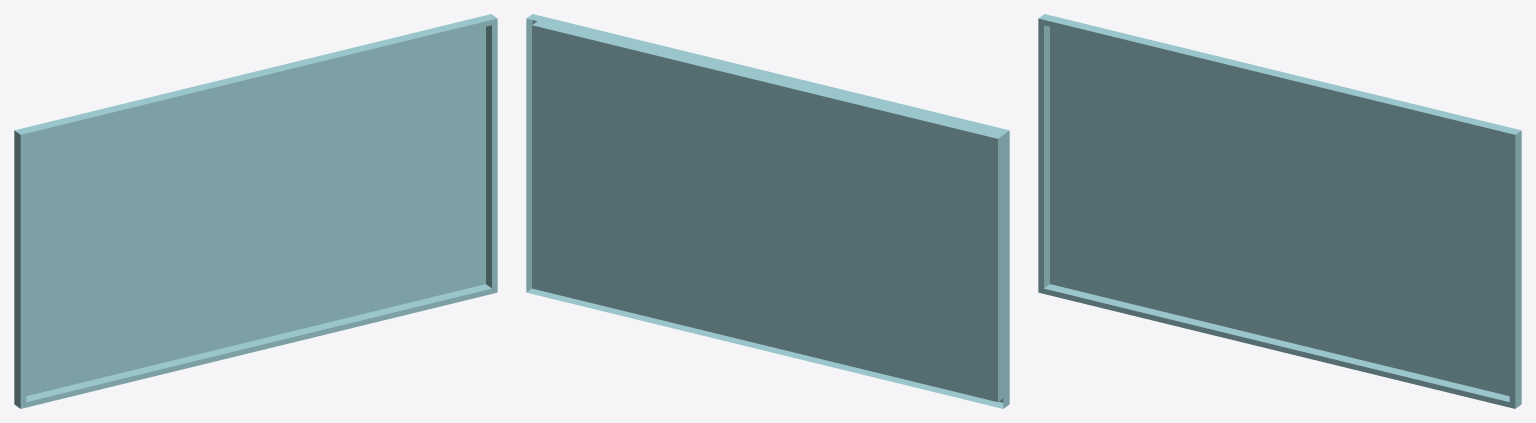
Rendered from Friday_House_Window.fbx.
3 views of the same model, side by side, from view 1: azimuth 30°, elevation 25°; view 2: azimuth 150°, elevation 25°; view 3: azimuth 330°, elevation 25° (orthographic).
Parts seen in each view (by area): view 1: Window; view 2: Window; view 3: Window.
Part boxes in pixels (x1,y1,x2,y2): Window: (14, 14, 497, 408); Window: (526, 14, 1009, 408); Window: (1038, 14, 1521, 408).
Bounding box in the file's own units: 105 × 57.8 × 2.37.
